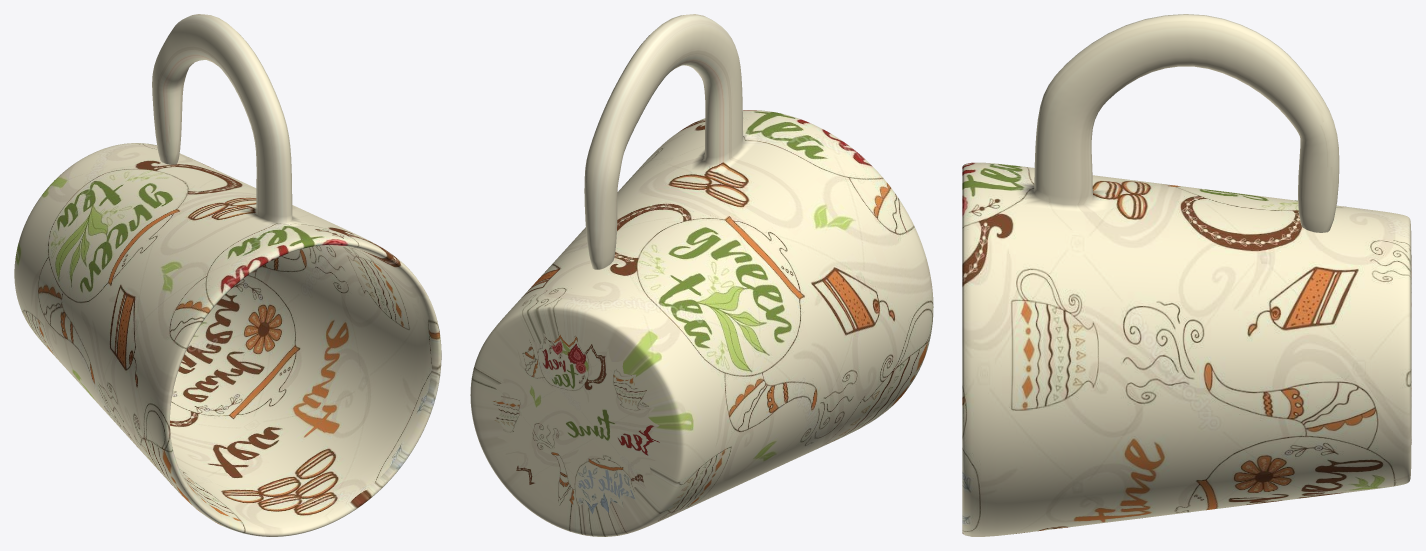
3 renders of one model, left to right at view 1: azimuth 30°, elevation 25°; view 2: azimuth 150°, elevation 25°; view 3: azimuth 270°, elevation 25°, orthographic. The views are drawn at different scales.
Bounding box in the file's own units: 0.6629 × 1 × 0.796.
Materials: 1 (1 with a texture image).
